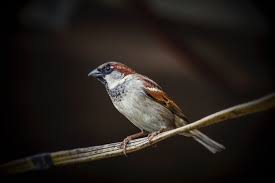hsparrow: (80, 57, 234, 162)
